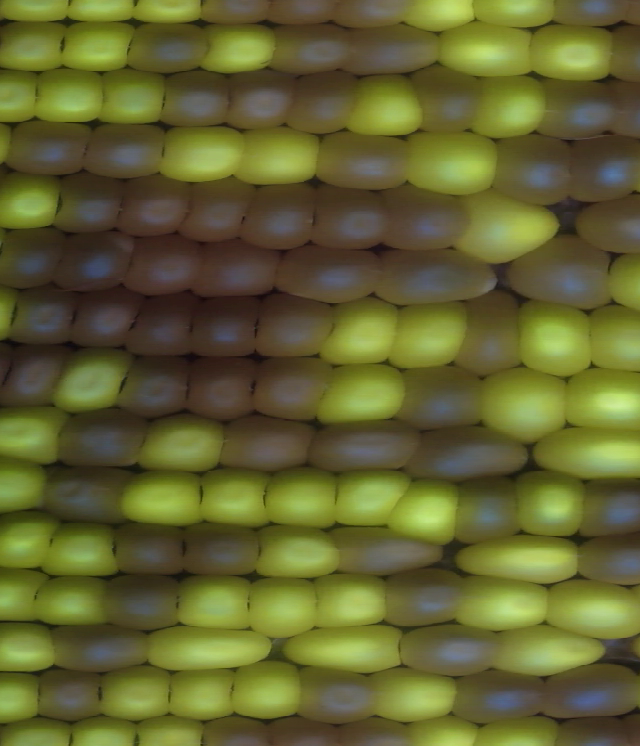fluorescent: (456, 192, 560, 267), (453, 530, 588, 586), (479, 362, 572, 443), (542, 578, 640, 646), (284, 622, 406, 676), (493, 620, 609, 676), (342, 69, 426, 146), (147, 622, 274, 672), (437, 18, 538, 80), (520, 295, 593, 380), (311, 364, 409, 427), (405, 128, 494, 197), (538, 422, 640, 481), (531, 18, 617, 87), (447, 572, 551, 629), (230, 123, 323, 186), (388, 299, 470, 370), (368, 657, 456, 723), (135, 413, 225, 477), (325, 292, 401, 367), (159, 122, 248, 186), (515, 461, 584, 541), (567, 362, 640, 437), (474, 66, 547, 140), (388, 477, 464, 546), (31, 569, 110, 635), (265, 461, 337, 533), (130, 461, 202, 533), (257, 520, 343, 580), (168, 572, 257, 629), (42, 519, 122, 581), (230, 657, 302, 725), (336, 466, 407, 534), (311, 570, 390, 630), (195, 464, 270, 527), (59, 345, 127, 412), (96, 64, 167, 128), (251, 572, 320, 637), (583, 301, 640, 377), (160, 661, 236, 718), (200, 20, 275, 77), (57, 20, 131, 76), (99, 662, 164, 724), (0, 166, 60, 233), (0, 19, 69, 76), (0, 509, 62, 571), (0, 404, 63, 465), (42, 65, 102, 125), (0, 617, 59, 675), (0, 448, 49, 517), (0, 65, 42, 127), (605, 244, 640, 316), (0, 565, 42, 623), (0, 669, 42, 727), (472, 718, 558, 746), (128, 716, 204, 746), (0, 719, 72, 746), (407, 720, 479, 746), (69, 719, 133, 746)
nonfluorescent: (407, 420, 542, 488), (507, 235, 621, 313), (369, 245, 501, 307), (272, 238, 389, 303), (398, 357, 490, 437), (180, 237, 289, 304), (211, 409, 315, 474), (385, 619, 502, 675), (339, 17, 442, 80), (309, 130, 417, 190), (494, 129, 578, 206), (452, 664, 553, 727), (306, 420, 420, 475), (377, 182, 464, 254), (325, 523, 442, 576), (42, 459, 131, 527), (457, 291, 523, 382), (180, 516, 267, 583), (177, 351, 259, 422), (563, 128, 640, 203), (239, 177, 318, 250), (417, 57, 484, 143), (306, 181, 388, 251), (46, 619, 148, 675), (544, 660, 640, 719), (60, 407, 148, 471), (58, 227, 135, 298), (183, 292, 262, 361), (115, 172, 195, 240), (128, 224, 195, 303), (381, 566, 465, 629), (4, 113, 90, 174), (538, 78, 617, 143), (452, 476, 522, 549), (254, 291, 328, 359), (289, 662, 378, 718), (128, 20, 210, 80), (285, 69, 356, 138), (222, 61, 290, 132), (114, 519, 193, 580), (252, 356, 327, 420), (105, 572, 181, 635), (183, 171, 248, 244), (28, 659, 101, 724), (53, 167, 121, 233), (125, 292, 189, 362), (159, 70, 230, 133), (121, 353, 184, 422), (570, 193, 640, 255), (0, 227, 65, 292), (86, 119, 167, 171), (68, 292, 139, 348), (9, 339, 63, 412), (277, 22, 348, 77), (580, 475, 640, 539), (20, 283, 77, 345), (581, 529, 640, 585), (262, 713, 346, 746), (606, 70, 640, 143), (547, 718, 625, 746), (607, 22, 640, 87), (333, 717, 406, 746), (204, 716, 268, 746)
